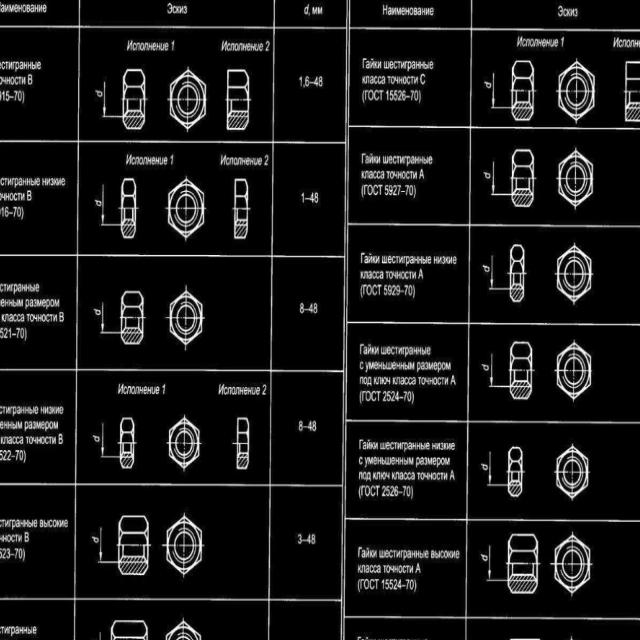marking_line: (101, 184, 120, 227), (486, 544, 507, 582), (102, 82, 122, 120), (489, 253, 509, 291), (491, 72, 511, 109), (99, 527, 118, 564), (491, 162, 511, 196), (488, 452, 507, 487), (490, 353, 509, 388), (101, 302, 121, 335), (101, 423, 119, 458)
numeric: (264, 154, 270, 167), (559, 35, 565, 47), (15, 327, 21, 339), (262, 384, 268, 396), (17, 206, 22, 219), (162, 383, 167, 396), (313, 302, 318, 315), (396, 284, 401, 297), (7, 450, 12, 462), (14, 548, 19, 560), (388, 184, 393, 196), (407, 390, 412, 402), (403, 390, 408, 402), (390, 485, 395, 497), (315, 192, 319, 206), (6, 91, 11, 102), (12, 206, 17, 217), (20, 328, 25, 339), (297, 534, 302, 545), (298, 421, 303, 432), (406, 486, 411, 497), (310, 191, 314, 204), (408, 284, 412, 297), (387, 390, 391, 403), (3, 451, 8, 461), (395, 391, 400, 401), (4, 327, 8, 339), (0, 450, 4, 462), (15, 448, 19, 460), (19, 548, 23, 560), (299, 75, 303, 87), (389, 89, 393, 101), (410, 89, 414, 101), (397, 185, 401, 197), (388, 284, 392, 296), (404, 285, 408, 297), (385, 578, 389, 590), (389, 578, 393, 590), (394, 579, 398, 591), (398, 578, 402, 590), (14, 90, 18, 101), (18, 90, 22, 101), (5, 206, 9, 217), (19, 450, 23, 461), (7, 548, 11, 559), (170, 155, 174, 166), (307, 534, 311, 545), (312, 533, 316, 544), (300, 303, 304, 314), (309, 302, 313, 313), (306, 76, 310, 87), (319, 76, 323, 87), (398, 90, 402, 101), (415, 90, 419, 101), (385, 185, 389, 196), (393, 185, 397, 196), (405, 185, 409, 196), (409, 185, 413, 196), (384, 285, 388, 296), (392, 285, 396, 296), (383, 391, 387, 402), (391, 391, 395, 402), (382, 486, 386, 497), (410, 579, 414, 590), (406, 579, 410, 590), (8, 328, 12, 338), (3, 549, 7, 559), (171, 41, 175, 51), (266, 41, 270, 51), (308, 421, 312, 431), (313, 421, 317, 431), (402, 91, 406, 101), (386, 486, 390, 496), (301, 191, 304, 204), (394, 90, 397, 103), (1, 206, 4, 218), (315, 76, 318, 88), (386, 90, 389, 102), (403, 485, 406, 497), (1, 328, 4, 339), (395, 486, 398, 497), (382, 579, 385, 590), (2, 91, 5, 100), (0, 549, 2, 559)
special_symbol: (360, 284, 364, 299), (410, 485, 414, 500), (411, 390, 415, 404), (414, 579, 418, 593), (412, 285, 416, 298), (413, 185, 416, 199), (359, 390, 362, 403), (359, 484, 361, 499), (358, 579, 360, 593), (362, 185, 364, 198)
